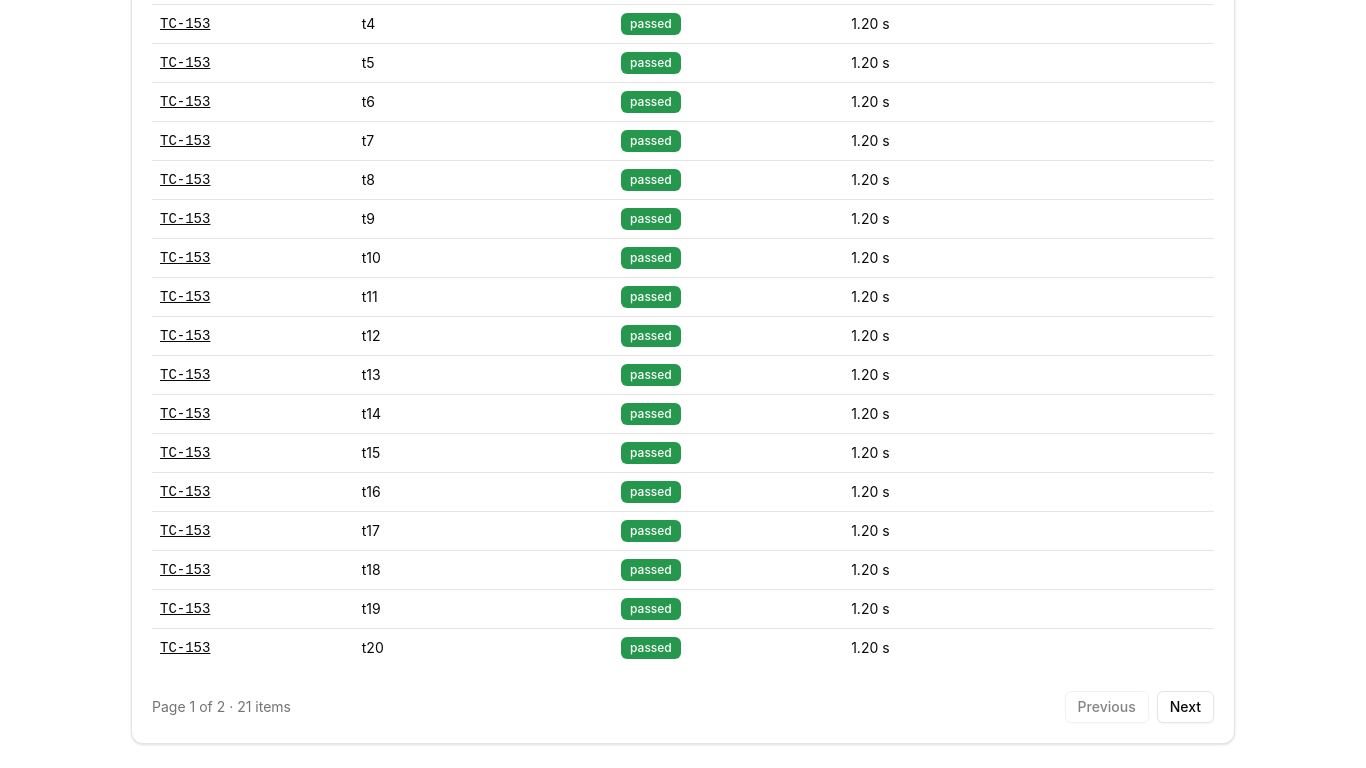
it: FE-INT-011 run results › FE-INT-011 paginates results
The width and height of the screenshot is (1366, 768).
(page scrolled)
Click the button "Next" at {"x": 1185, "y": 707}, box [1157,691,1214,723]
(page scrolled)
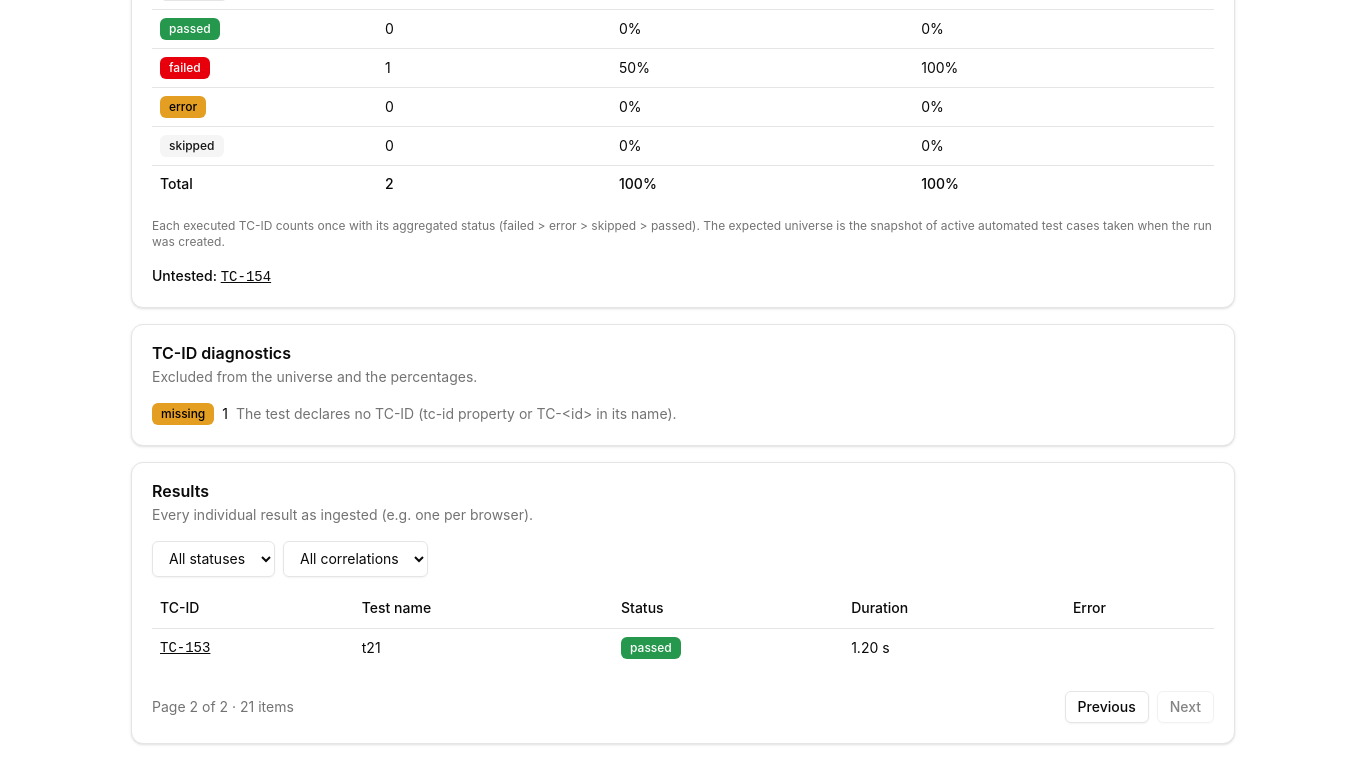
Result: the number of rows with test id "result-row" is 1 at [152,628,1214,667]
Result: the text "t21" is shown at [354,628,613,667]
